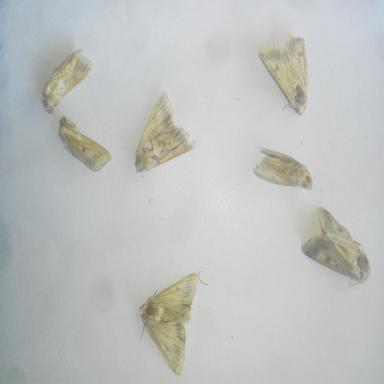abw: (137, 266, 205, 376), (299, 204, 373, 288), (130, 88, 200, 176), (255, 28, 314, 120), (38, 40, 98, 117), (52, 113, 116, 173), (249, 138, 316, 194)
